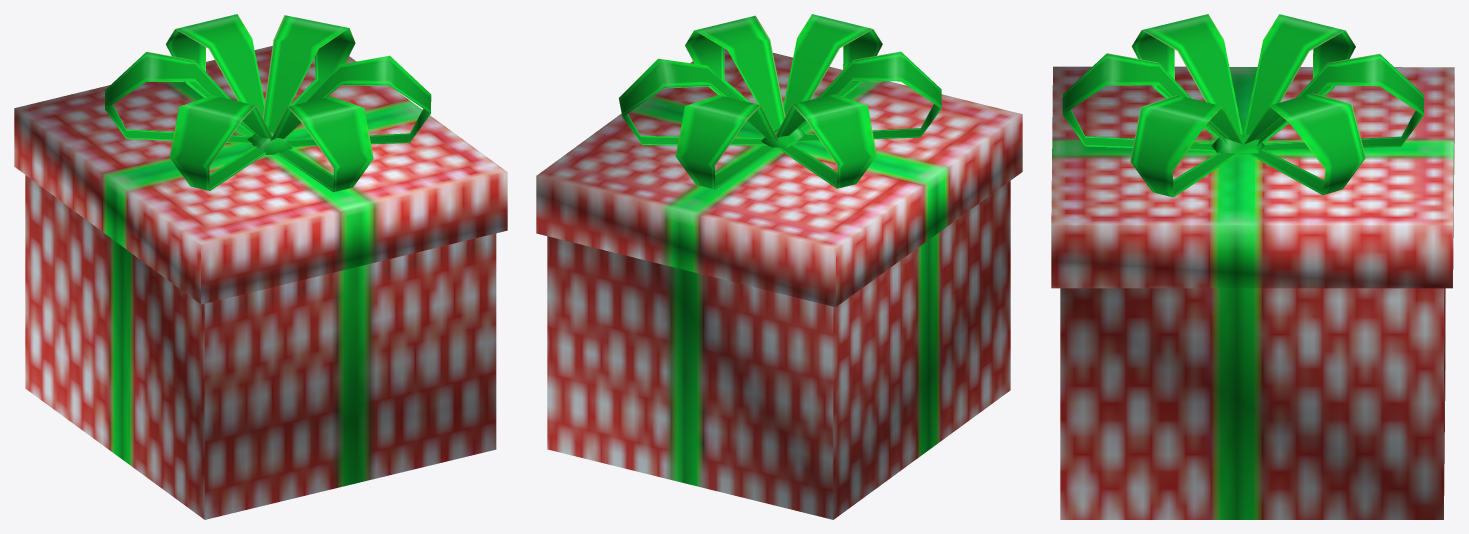
Rendered from Decorate_Box_Base_1_Mod.FBX.
The picture shows the model from 3 angles, left to right: view 1: azimuth 30°, elevation 25°; view 2: azimuth 150°, elevation 25°; view 3: azimuth 270°, elevation 25°; orthographic projection. The views are drawn at different scales.
Visible parts, largest first — view 1: Decorate_Box_Base_1_Mod; view 2: Decorate_Box_Base_1_Mod; view 3: Decorate_Box_Base_1_Mod.
Part boxes in pixels (x1,y1,x2,y2): Decorate_Box_Base_1_Mod: [14, 14, 507, 519]; Decorate_Box_Base_1_Mod: [536, 14, 1022, 519]; Decorate_Box_Base_1_Mod: [1051, 14, 1454, 519].
Bounding box in the file's own units: 55.34 × 61 × 59.18.
